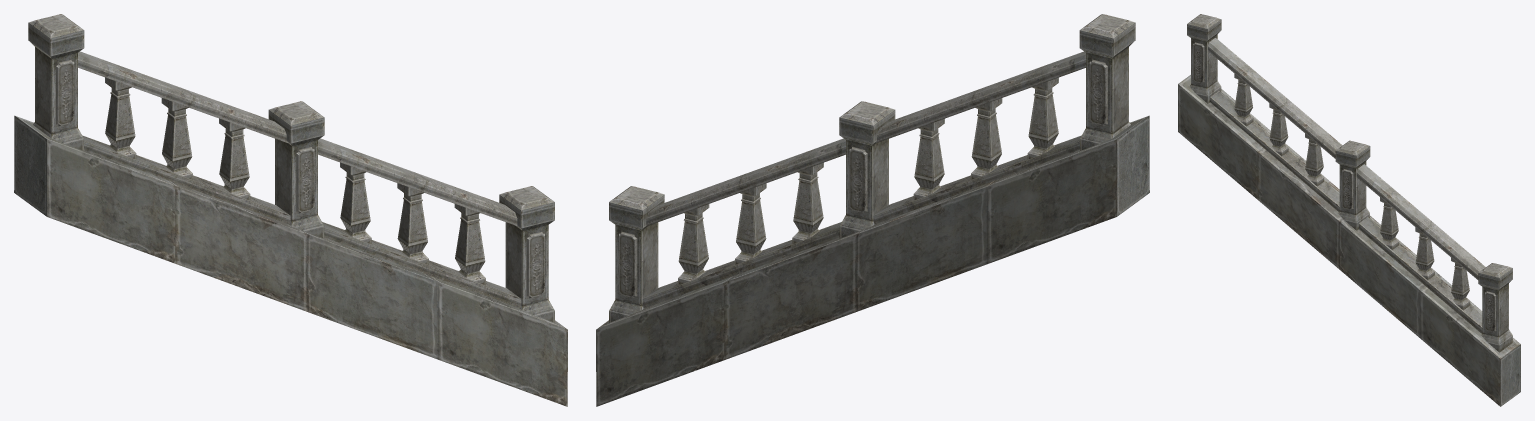
File: bg_lut_lucastle_stairfence01_sm_lkj.FBX
3 views of the same model, side by side, from view 1: azimuth 30°, elevation 25°; view 2: azimuth 150°, elevation 25°; view 3: azimuth 330°, elevation 25° (orthographic). The views are drawn at different scales.
Parts seen in each view (by area): view 1: bg_lut_lucastle_stairfence01_sm_lkj; view 2: bg_lut_lucastle_stairfence01_sm_lkj; view 3: bg_lut_lucastle_stairfence01_sm_lkj.
Boxes of the visible parts, x1,y1,x2,y2 form: bg_lut_lucastle_stairfence01_sm_lkj: (14, 14, 567, 406); bg_lut_lucastle_stairfence01_sm_lkj: (596, 14, 1149, 406); bg_lut_lucastle_stairfence01_sm_lkj: (1178, 14, 1520, 406).
Size of the model in its own units: 440 by 398 by 48.
